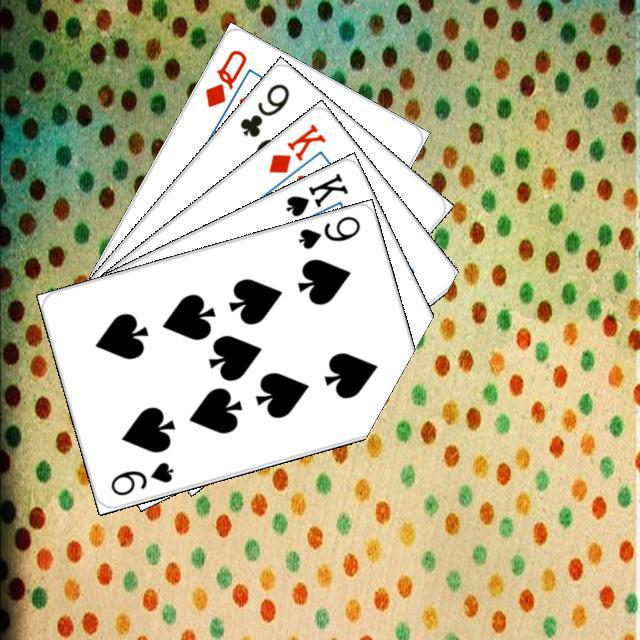9c: (235, 78, 292, 139)
9s: (105, 457, 175, 497), (293, 211, 362, 251)
Kd: (263, 118, 328, 176)
Ks: (280, 168, 350, 219)
Qd: (200, 44, 249, 109)
